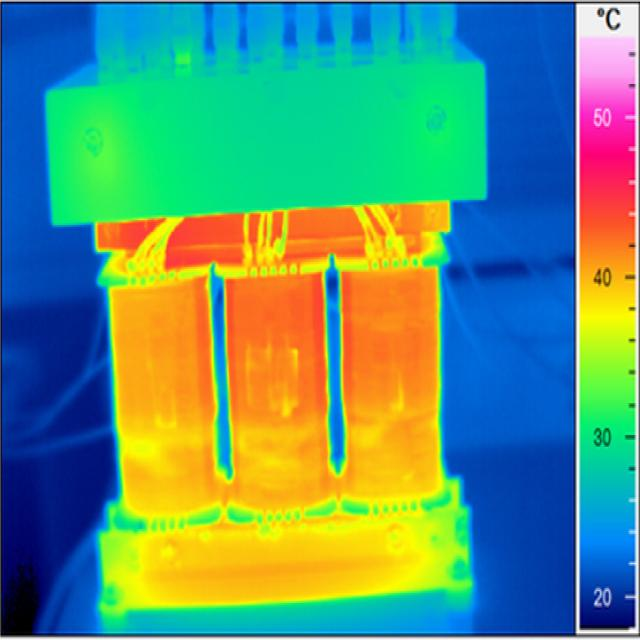Transformer: (47, 5, 486, 630)
